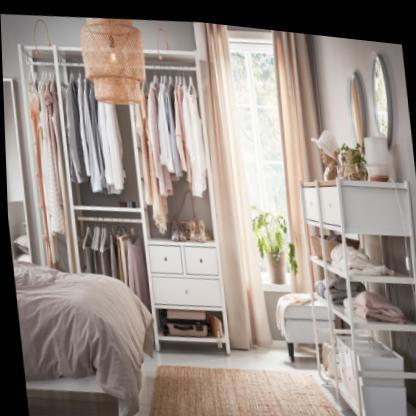Bed: (9, 246, 152, 416)
